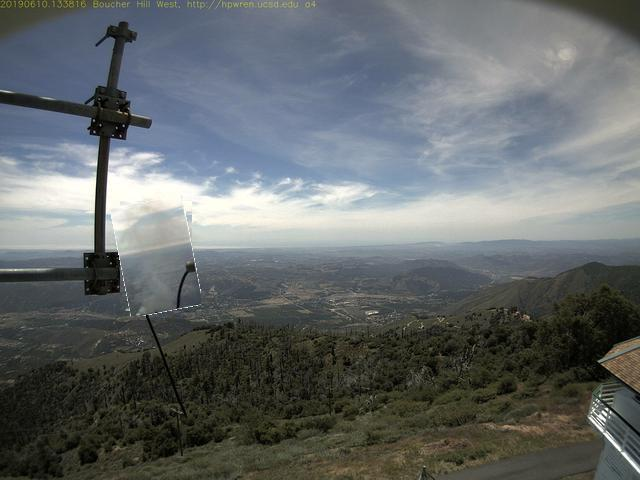smoke: (116, 199, 199, 316)
